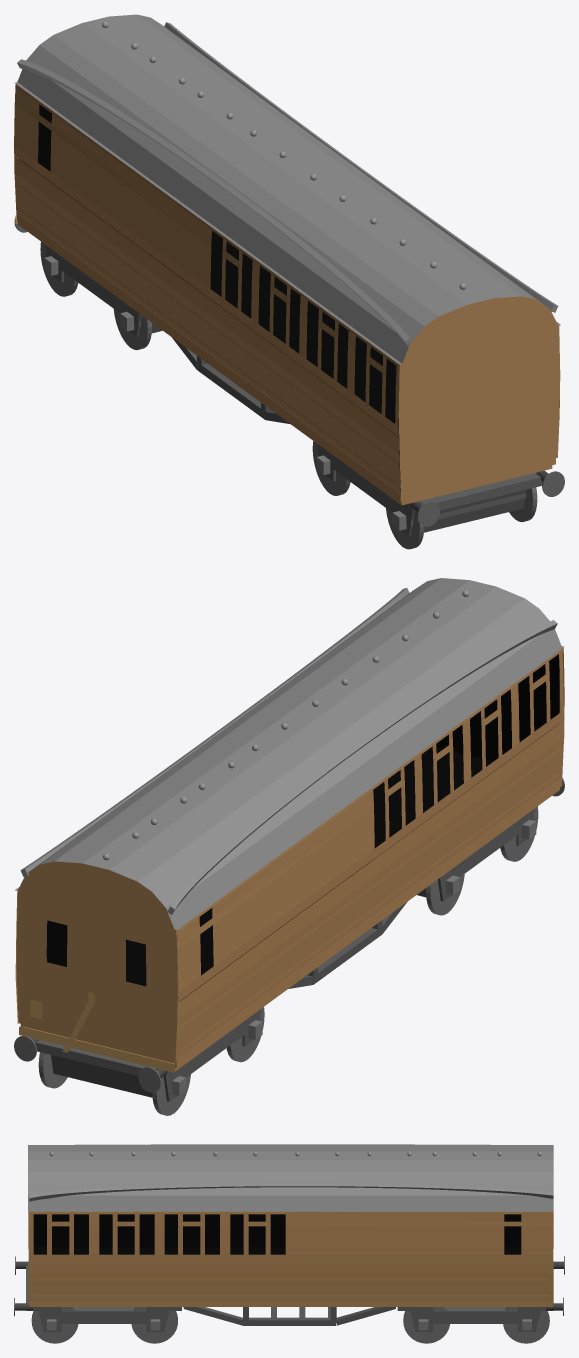
File: lner-standard-51ft-third-brake-for-teak.dae
The picture shows the model from 3 angles, top to bottom: view 1: azimuth 30°, elevation 25°; view 2: azimuth 150°, elevation 25°; view 3: azimuth 270°, elevation 25°; orthographic projection. The views are drawn at different scales.
Visible parts, largest first — view 1: Plane_083, Plane_001, Plane_359, Plane_002, Plane_009, Plane_019, Plane_016, Plane_012, Cube_029, Cube_043, Cube_070, Cube_028 (+4 smaller); view 2: Plane_083, Plane_006, Plane_359, Plane_002, Plane_009, Plane_019, Cube_043, Plane_016, Plane_012, Cube_029, Cube_028, Plane_003 (+5 smaller); view 3: Plane_002, Plane_359, Plane_008, Plane_019, Plane_004, Plane_083, Cube_043, Cube_028, Plane_012, Cube_072, Plane_007, Cube_027 (+7 smaller).
Part boxes in pixels (x1=…): Plane_083: x1=14, y1=20, x2=479, y2=364; Plane_001: x1=398, y1=296, x2=560, y2=495; Plane_359: x1=14, y1=85, x2=559, y2=494; Plane_002: x1=95, y1=14, x2=560, y2=325; Plane_009: x1=15, y1=88, x2=207, y2=295; Plane_019: x1=19, y1=104, x2=400, y2=490; Plane_016: x1=206, y1=228, x2=399, y2=436; Plane_012: x1=17, y1=213, x2=555, y2=501; Cube_029: x1=17, y1=59, x2=411, y2=346; Cube_043: x1=40, y1=242, x2=162, y2=349; Cube_070: x1=401, y1=472, x2=542, y2=536; Cube_028: x1=164, y1=22, x2=558, y2=312; Plane_083: x1=97, y1=583, x2=564, y2=929; Plane_006: x1=16, y1=861, x2=178, y2=1061; Plane_359: x1=15, y1=648, x2=564, y2=1061; Plane_002: x1=15, y1=578, x2=483, y2=890; Plane_009: x1=176, y1=792, x2=370, y2=1002; Plane_019: x1=46, y1=654, x2=559, y2=1000; Cube_043: x1=36, y1=1007, x2=264, y2=1115; Plane_016: x1=369, y1=651, x2=563, y2=861; Plane_012: x1=20, y1=778, x2=562, y2=1067; Cube_029: x1=167, y1=620, x2=557, y2=914; Cube_028: x1=20, y1=588, x2=409, y2=876; Plane_003: x1=19, y1=992, x2=174, y2=1072; Plane_002: x1=28, y1=1155, x2=553, y2=1211; Plane_359: x1=28, y1=1211, x2=553, y2=1301; Plane_008: x1=291, y1=1212, x2=552, y2=1261; Plane_019: x1=33, y1=1214, x2=521, y2=1254; Plane_004: x1=28, y1=1212, x2=290, y2=1261; Plane_083: x1=28, y1=1145, x2=553, y2=1155; Cube_043: x1=397, y1=1301, x2=553, y2=1343; Cube_028: x1=29, y1=1183, x2=553, y2=1201; Plane_012: x1=28, y1=1301, x2=552, y2=1304; Cube_072: x1=41, y1=1307, x2=165, y2=1323; Plane_007: x1=29, y1=1301, x2=552, y2=1306; Cube_027: x1=243, y1=1317, x2=335, y2=1325.
Bounding box in the file's own units: 2.07 × 8.92 × 3.07.
